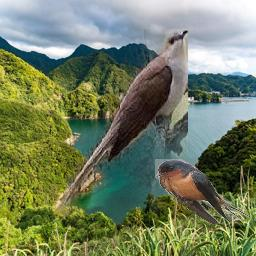Cuckoo: (56, 29, 188, 211)
Swallow: (156, 160, 251, 225)
